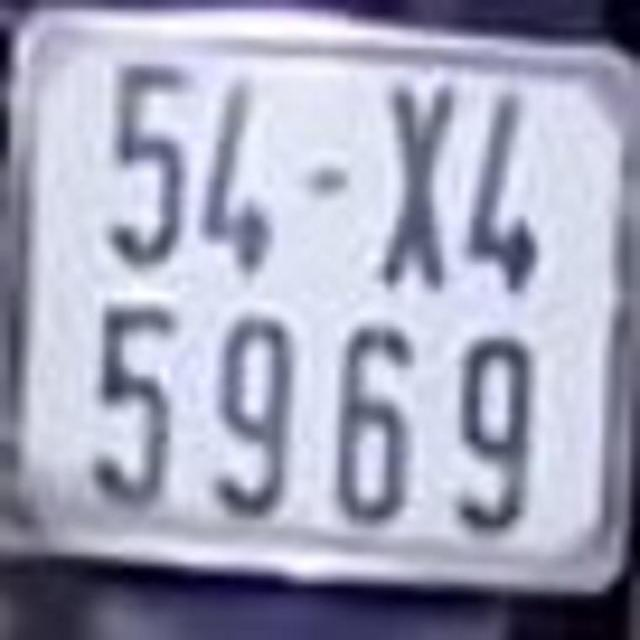4: (462, 83, 542, 303), (202, 58, 276, 288)
5: (105, 54, 196, 278), (92, 292, 180, 506), (208, 300, 292, 519)
6: (331, 314, 421, 524)
9: (448, 324, 538, 532)
X: (367, 62, 457, 300)
